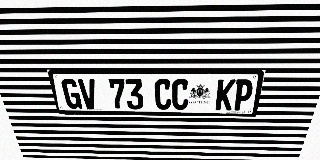3: (125, 79, 143, 109)
7: (108, 79, 127, 109)
C: (154, 79, 171, 110), (172, 79, 189, 110)
G: (60, 79, 83, 109)
K: (215, 79, 236, 110)
P: (232, 79, 254, 110)
V: (78, 79, 99, 109)
